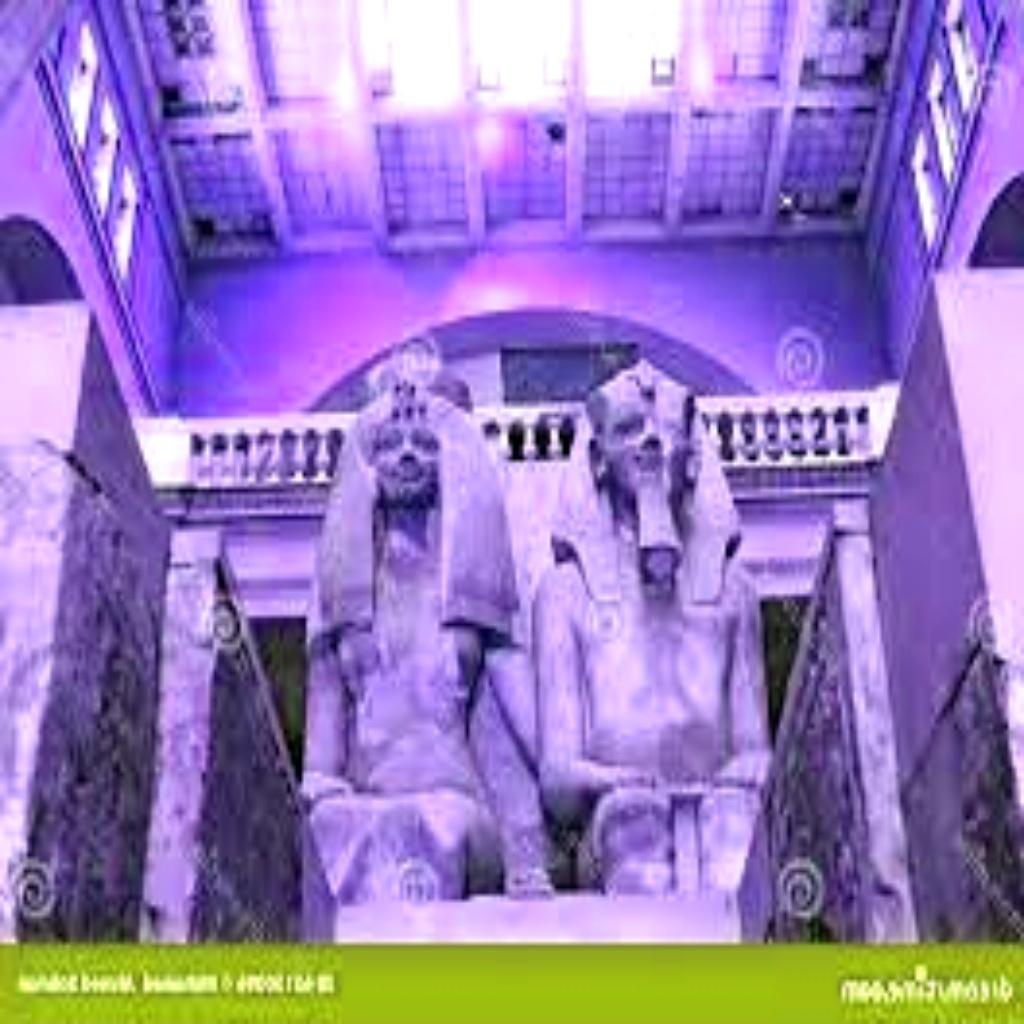Amenhotep III and Tiye: (298, 352, 777, 896)
